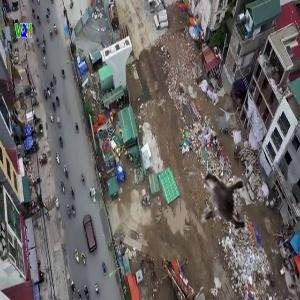drone: (166, 153, 271, 258)
